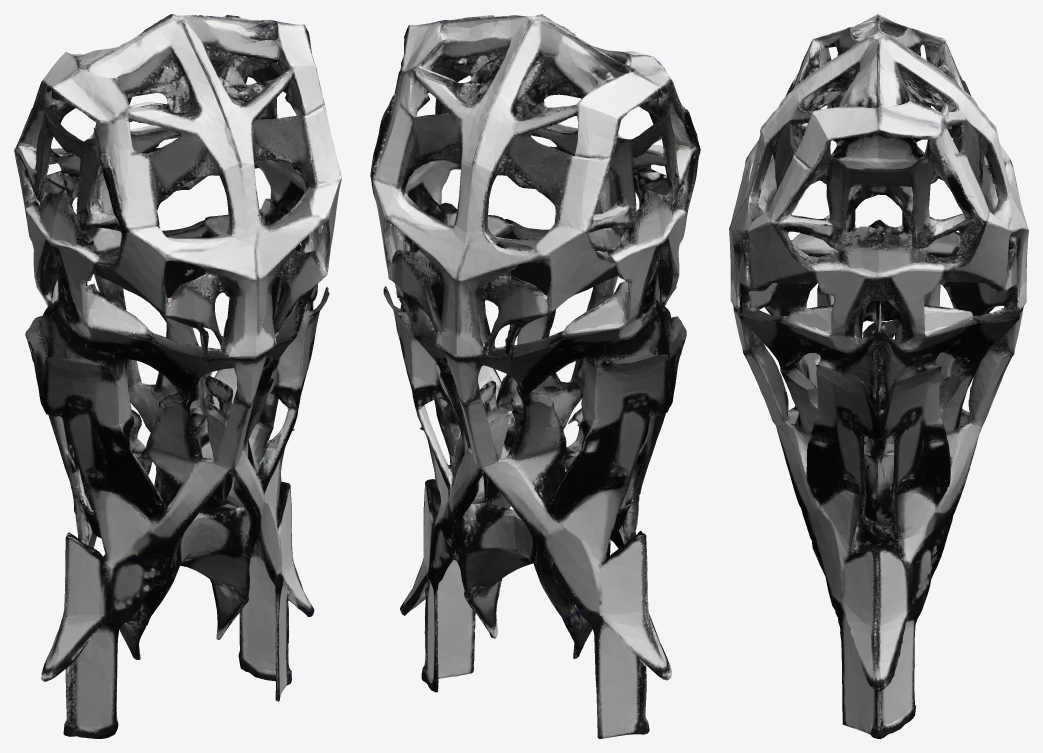
Rendered from reconviagen.glb.
The picture shows the model from 3 angles, left to right: view 1: azimuth 30°, elevation 25°; view 2: azimuth 150°, elevation 25°; view 3: azimuth 270°, elevation 25°; orthographic projection. The views are drawn at different scales.
Parts seen in each view (by area): view 1: world; view 2: world; view 3: world.
Part boxes in pixels (box(x1,y1,x2,y2)): world: box(14, 14, 341, 738); world: box(370, 14, 700, 738); world: box(729, 14, 1028, 738).
Bounding box in the file's own units: 0.4291 × 1 × 0.4175.
Materials: 1 (1 with a texture image).
